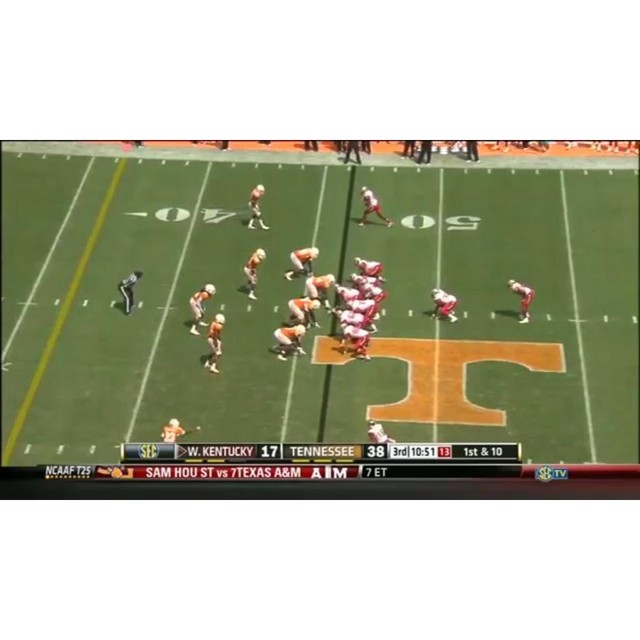american-football-player: (186, 283, 216, 336), (357, 186, 393, 228), (202, 313, 225, 375), (240, 248, 267, 300), (270, 325, 308, 361), (304, 273, 337, 312), (340, 324, 372, 363), (284, 247, 319, 282), (508, 279, 535, 323), (287, 297, 322, 329), (428, 288, 459, 323), (248, 183, 270, 231), (354, 257, 386, 283), (366, 420, 395, 445), (160, 418, 187, 444), (332, 283, 361, 307)
referee: (114, 267, 144, 317)
